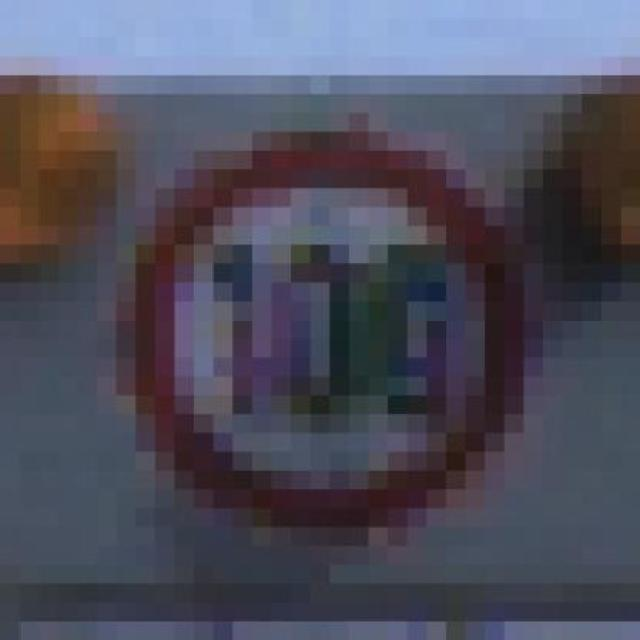forb_speed_over_100: (130, 137, 524, 531)
